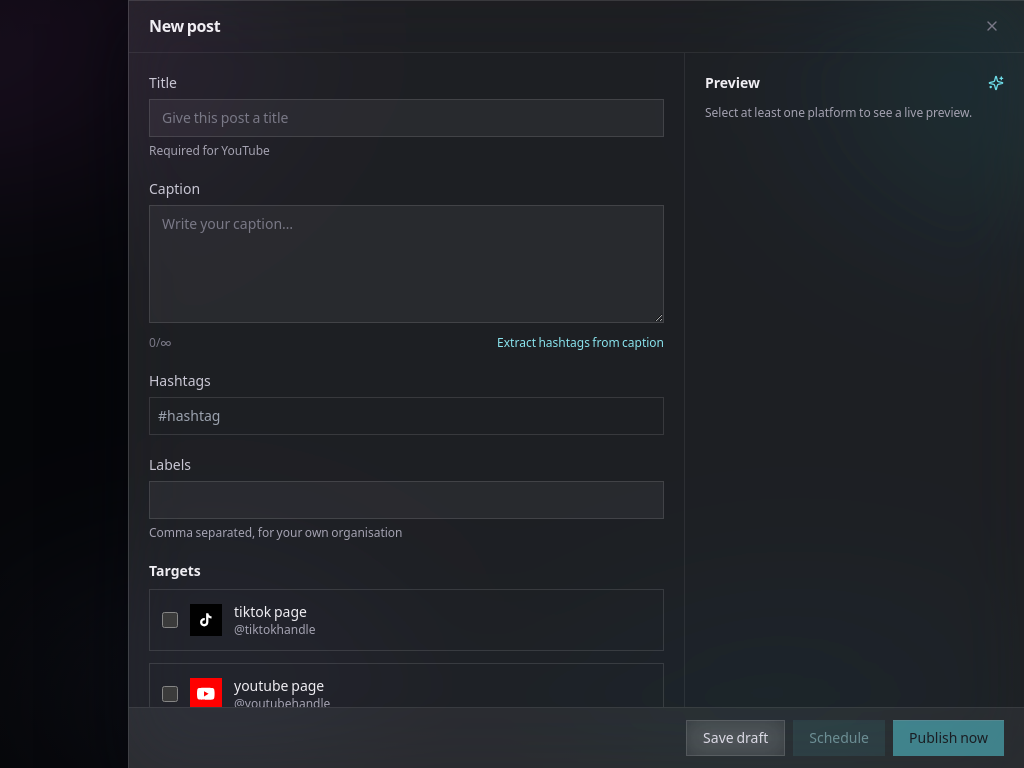
Test: ComposerDrawer › shows the YouTube title error in the validation panel
What coordinates should you click on to do the following:
click the checkbox named "Include YouTube"
I would click on:
 (170, 694)
Its box is [162, 686, 178, 702].
(page scrolled)
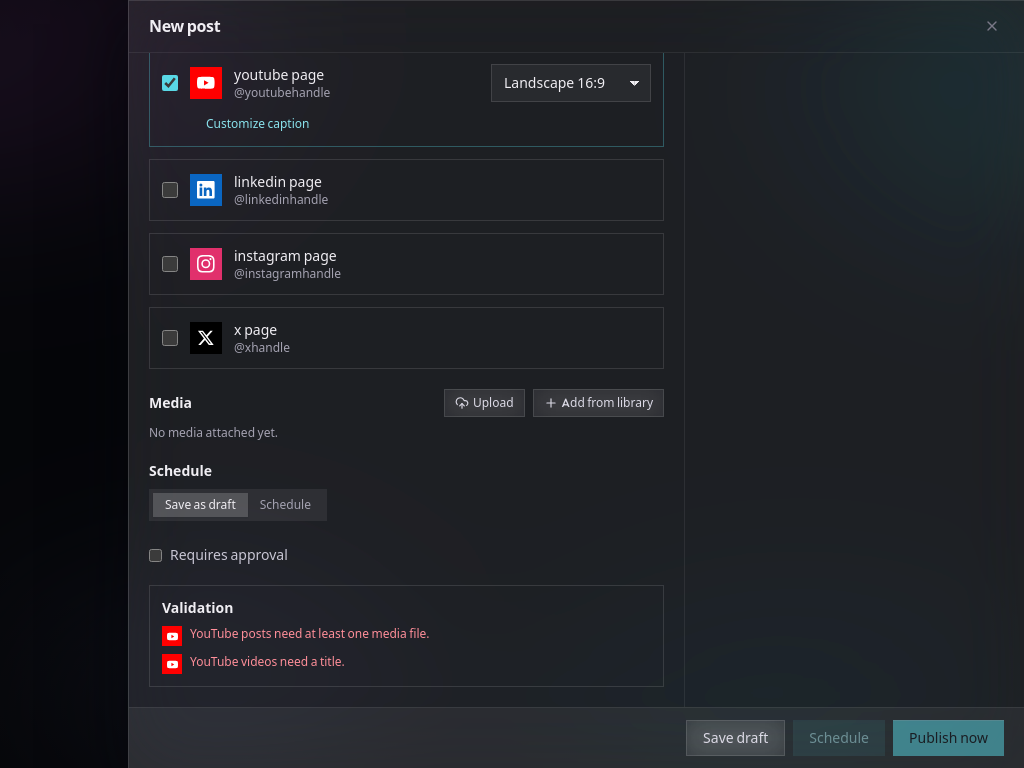
Expected: the text "YouTube videos need a title." is shown, [190, 654, 345, 670]
